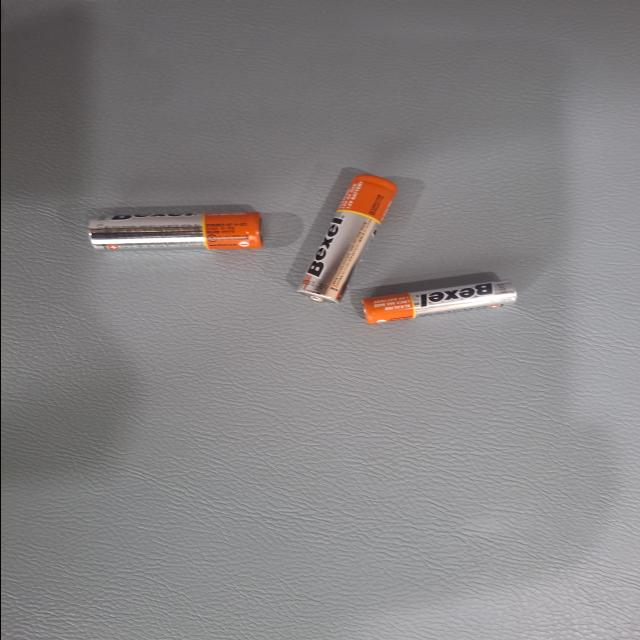AA: (18, 181, 192, 259), (68, 282, 122, 411)
AAA: (157, 94, 219, 208)
